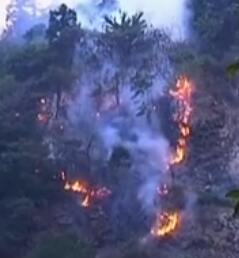fire: (147, 73, 196, 237), (61, 170, 113, 207)
yanwu: (47, 0, 170, 224)
